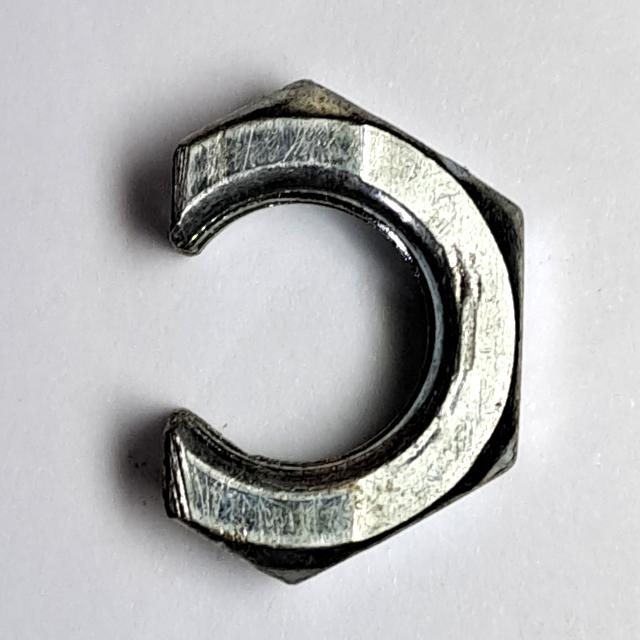Fracture: (145, 62, 544, 601)
